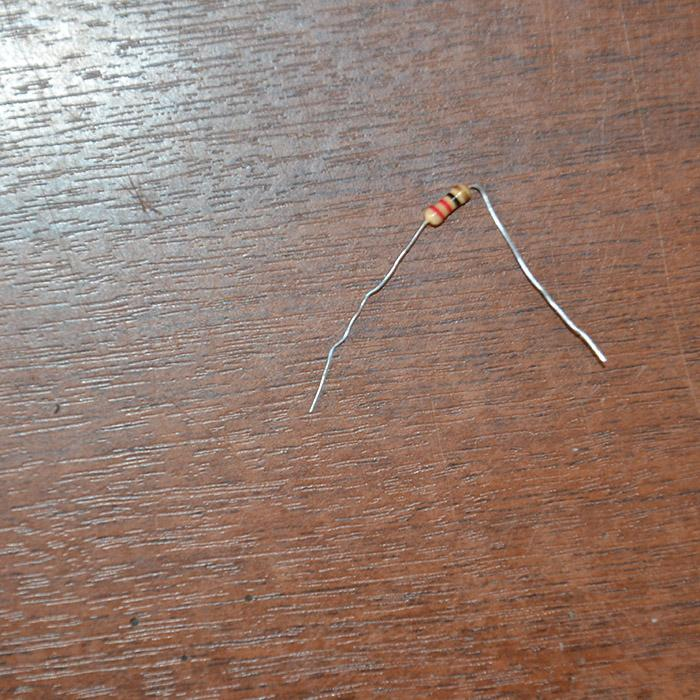resistor: (424, 183, 471, 227)
